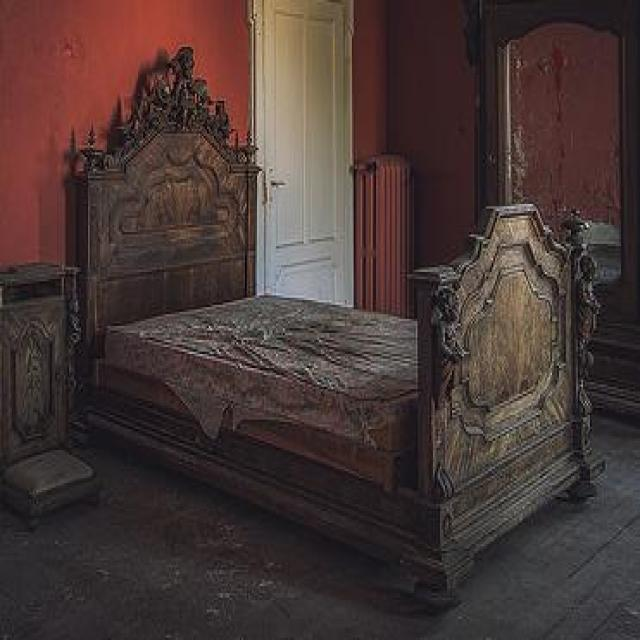bed: (62, 42, 606, 605)
